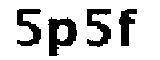5: (81, 5, 117, 50), (12, 6, 45, 51)
f: (119, 7, 143, 55)
p: (46, 13, 79, 60)
